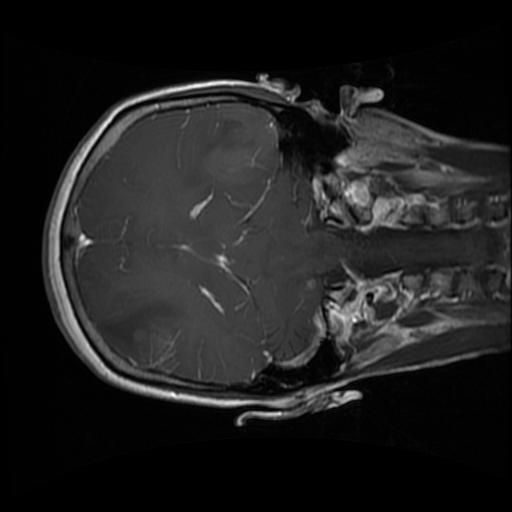glioma: (101, 303, 185, 370)
